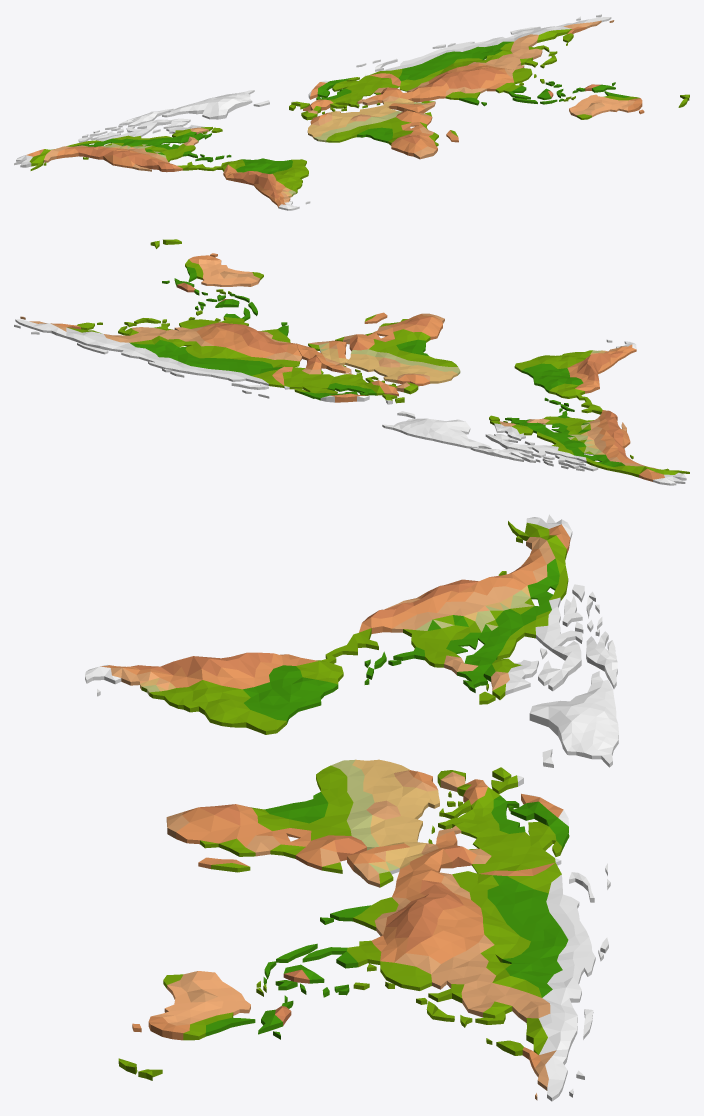
The model's file is WorldMap.glb.
3 renders of one model, top to bottom at view 1: azimuth 30°, elevation 25°; view 2: azimuth 150°, elevation 25°; view 3: azimuth 270°, elevation 25°, orthographic. The views are drawn at different scales.
Visible parts, largest first — view 1: NorthAmerica, NorthAsia, Africa, SouthAmerica, EastAsia, SouthEast, Europe, Australia, Other, NearEast, SouthAsia; view 2: NorthAmerica, NorthAsia, Africa, EastAsia, SouthAmerica, Europe, Other, Australia, NearEast, SouthAsia, SouthEast; view 3: NorthAmerica, NorthAsia, Africa, EastAsia, SouthAmerica, Australia, Europe, Other, SouthAsia, NearEast, SouthEast.
Part boxes in pixels (left/top/right/bottom): NorthAmerica: left=14, top=108, right=231, bottom=172; NorthAsia: left=336, top=14, right=614, bottom=95; Africa: left=307, top=105, right=458, bottom=159; SouthAmerica: left=217, top=158, right=310, bottom=210; EastAsia: left=400, top=45, right=557, bottom=92; SouthEast: left=420, top=69, right=488, bottom=106; Europe: left=301, top=80, right=370, bottom=120; Australia: left=569, top=91, right=689, bottom=119; Other: left=162, top=90, right=269, bottom=119; NearEast: left=362, top=88, right=438, bottom=113; SouthAsia: left=484, top=74, right=615, bottom=104; NorthAmerica: left=470, top=395, right=689, bottom=485; NorthAsia: left=14, top=316, right=331, bottom=398; Africa: left=335, top=312, right=460, bottom=386; EastAsia: left=118, top=317, right=301, bottom=366; SouthAmerica: left=514, top=339, right=636, bottom=398; Europe: left=314, top=373, right=418, bottom=402; Other: left=382, top=411, right=491, bottom=448; Australia: left=150, top=239, right=263, bottom=286; NearEast: left=296, top=340, right=360, bottom=373; SouthAsia: left=162, top=278, right=257, bottom=325; SouthEast: left=233, top=322, right=297, bottom=353; NorthAmerica: left=325, top=514, right=617, bottom=704; NorthAsia: left=444, top=830, right=610, bottom=1101; Africa: left=166, top=759, right=439, bottom=873; EastAsia: left=367, top=870, right=527, bottom=1027; SouthAmerica: left=85, top=652, right=343, bottom=734; Australia: left=118, top=971, right=255, bottom=1080; Europe: left=437, top=770, right=568, bottom=844; Other: left=529, top=671, right=618, bottom=767; SouthAsia: left=256, top=920, right=407, bottom=1039; NearEast: left=347, top=825, right=460, bottom=888; SouthEast: left=320, top=870, right=459, bottom=936.
Size of the model in its own units: 2.04 by 0.0514 by 0.7896.
